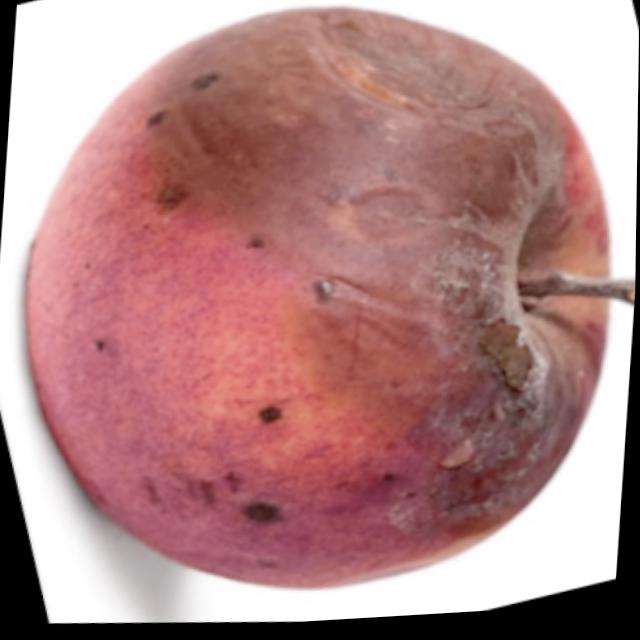organik: (4, 0, 640, 609)
